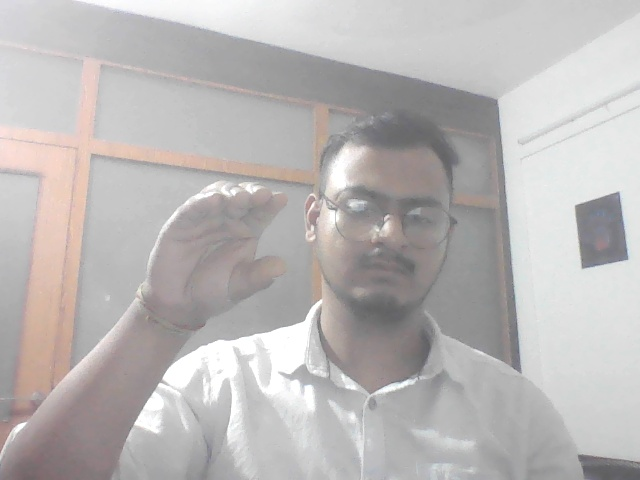NO: (141, 174, 300, 324)
